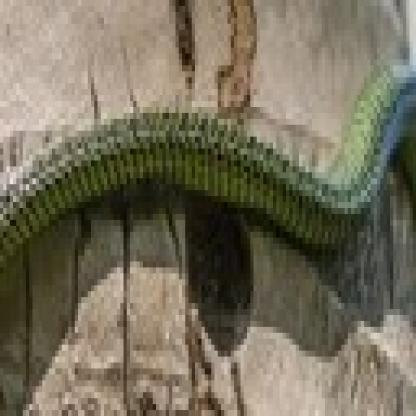snakes: (8, 61, 416, 267)
